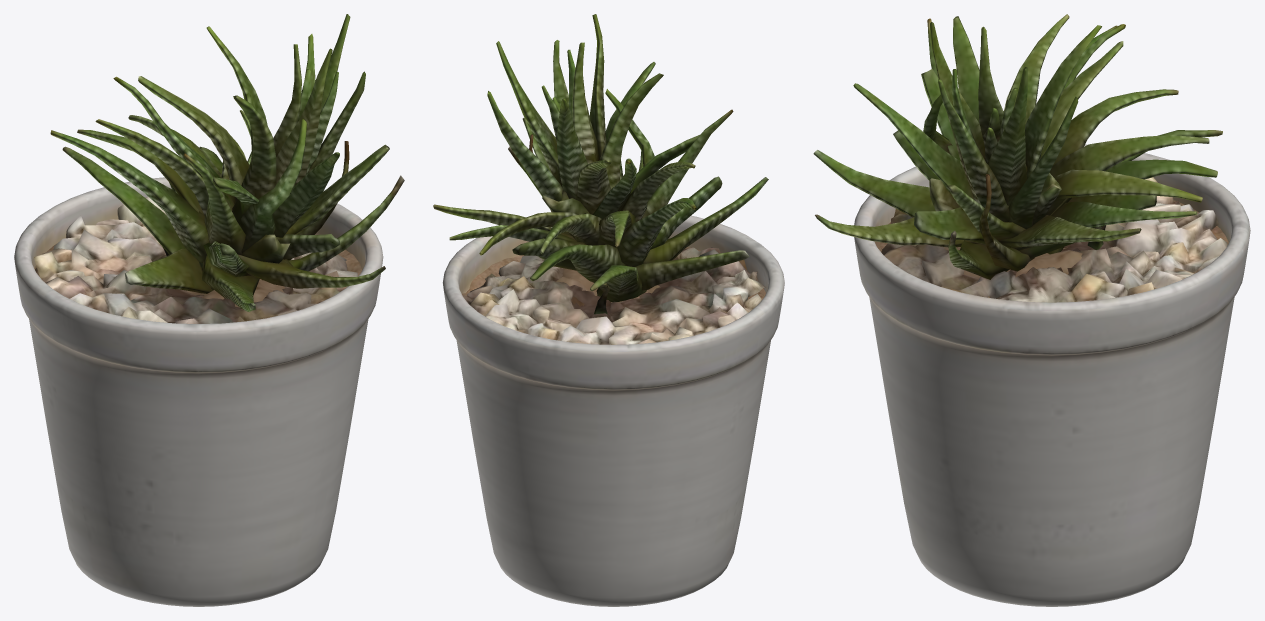
File: potted_plant_04.glb
3 renders of one model, left to right at view 1: azimuth 30°, elevation 25°; view 2: azimuth 150°, elevation 25°; view 3: azimuth 270°, elevation 25°, orthographic. The views are drawn at different scales.
Parts seen in each view (by area): view 1: potted_plant_04_ground; view 2: potted_plant_04_ground; view 3: potted_plant_04_ground.
Boxes of the visible parts, box(x1,y1,x2,y2) form: potted_plant_04_ground: box(14, 14, 404, 606); potted_plant_04_ground: box(433, 14, 784, 606); potted_plant_04_ground: box(813, 14, 1250, 606).
Size of the model in its own units: 0.1679 by 0.2675 by 0.1847.
1 material, 1 textured.
